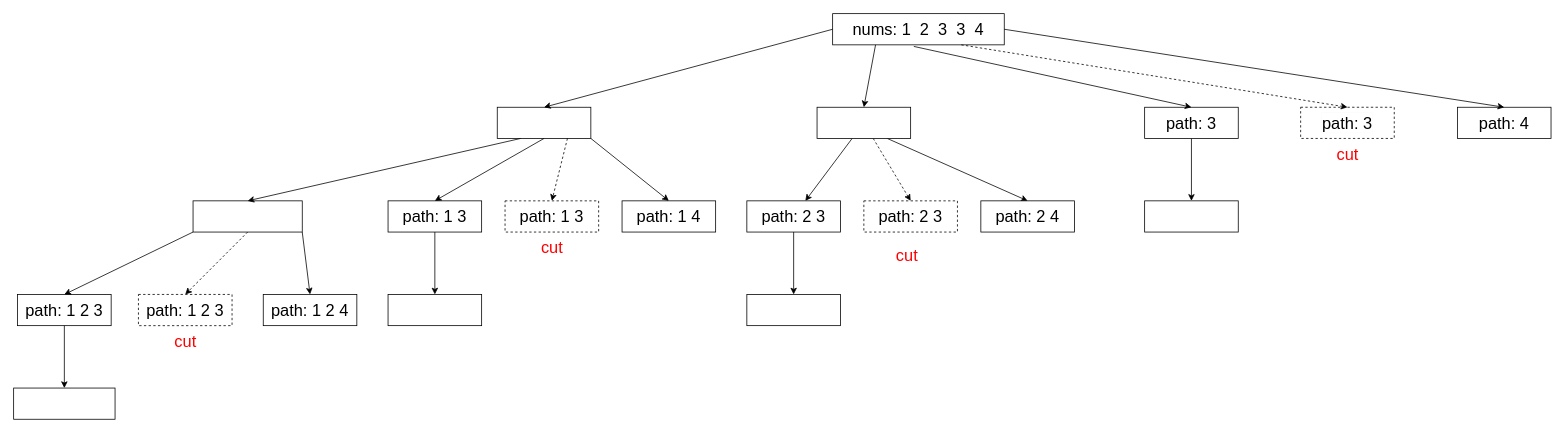
This 1565x433 diagram has some shape labels left out. Here are the shapes that lost their labels. From the top down, the centre of each, then its label:
At point (543, 122): "path: 1".
At point (863, 122): "path: 2".
At point (247, 216): "path: 1 2".
At point (1191, 216): "path: 3 4".
At point (434, 310): "path: 1 3 4".
At point (793, 310): "path: 2 3 4".
At point (64, 403): "path: 1 2 3 4".
